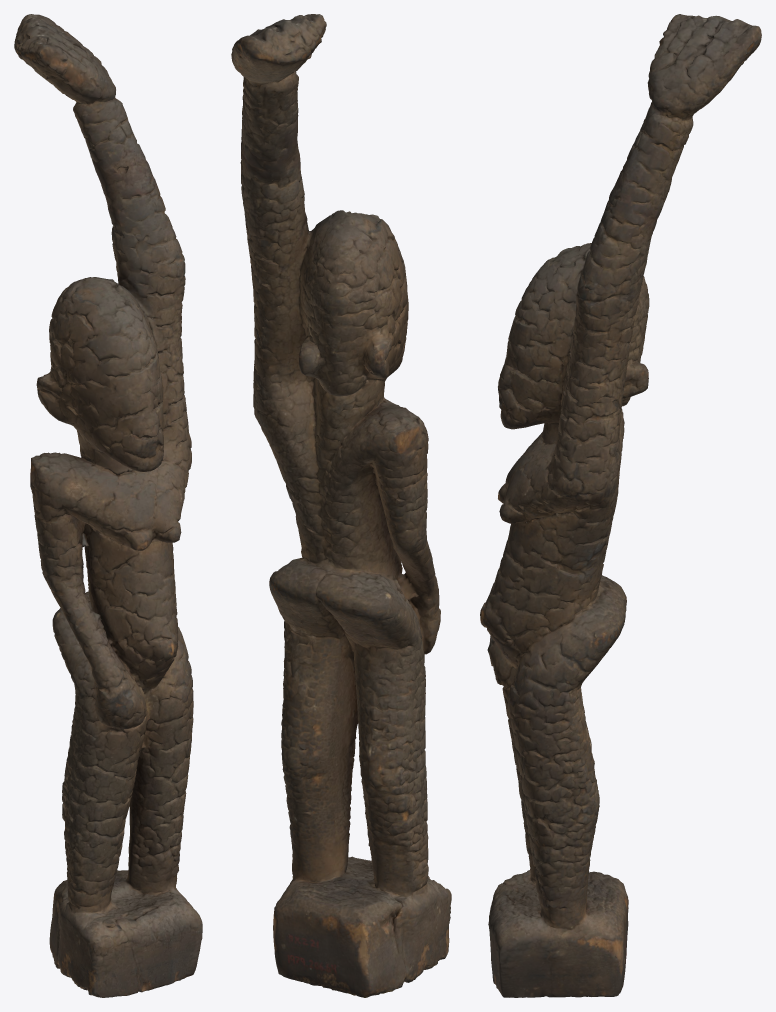
The model's file is preview.glb.
3 views of the same model, side by side, from view 1: azimuth 30°, elevation 25°; view 2: azimuth 150°, elevation 25°; view 3: azimuth 270°, elevation 25° (orthographic). The views are drawn at different scales.
Parts seen in each view (by area): view 1: ADVIMG_1979_206_64_FemaleFigure_High_7M_n3d; view 2: ADVIMG_1979_206_64_FemaleFigure_High_7M_n3d; view 3: ADVIMG_1979_206_64_FemaleFigure_High_7M_n3d.
Part boxes in pixels (x1,y1,x2,y2): ADVIMG_1979_206_64_FemaleFigure_High_7M_n3d: (14, 14, 202, 997); ADVIMG_1979_206_64_FemaleFigure_High_7M_n3d: (231, 14, 451, 997); ADVIMG_1979_206_64_FemaleFigure_High_7M_n3d: (480, 14, 761, 997).
Size of the model in its own units: 0.0823 by 0.4633 by 0.1241.
1 material, 1 textured.
